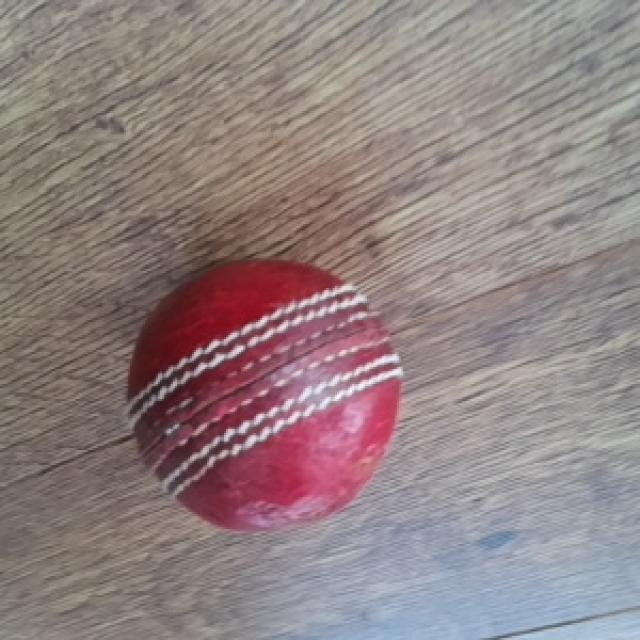ball: (116, 246, 402, 532)
